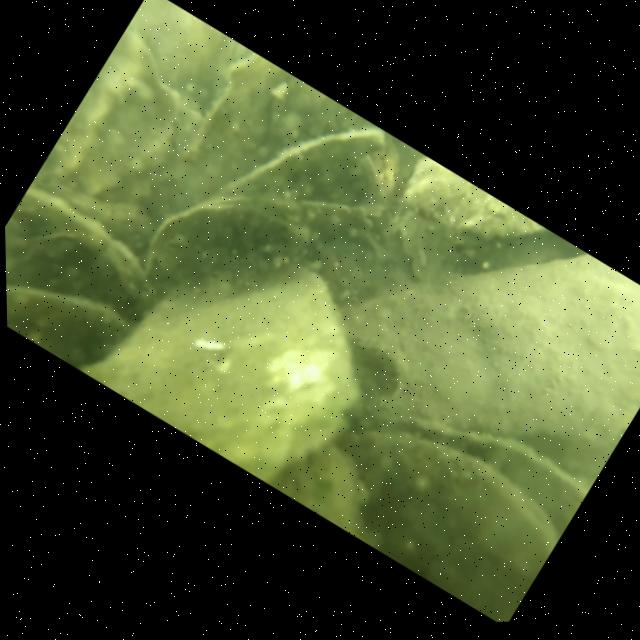Oyster-Indeterminate: (302, 151, 640, 532), (80, 190, 409, 510), (146, 41, 378, 285), (126, 157, 321, 352), (398, 152, 541, 274)
Oyster-Open: (298, 356, 593, 629), (216, 73, 418, 272), (4, 188, 164, 384)
